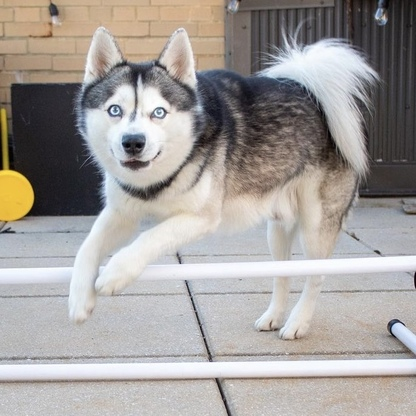husky: (61, 16, 379, 347)
